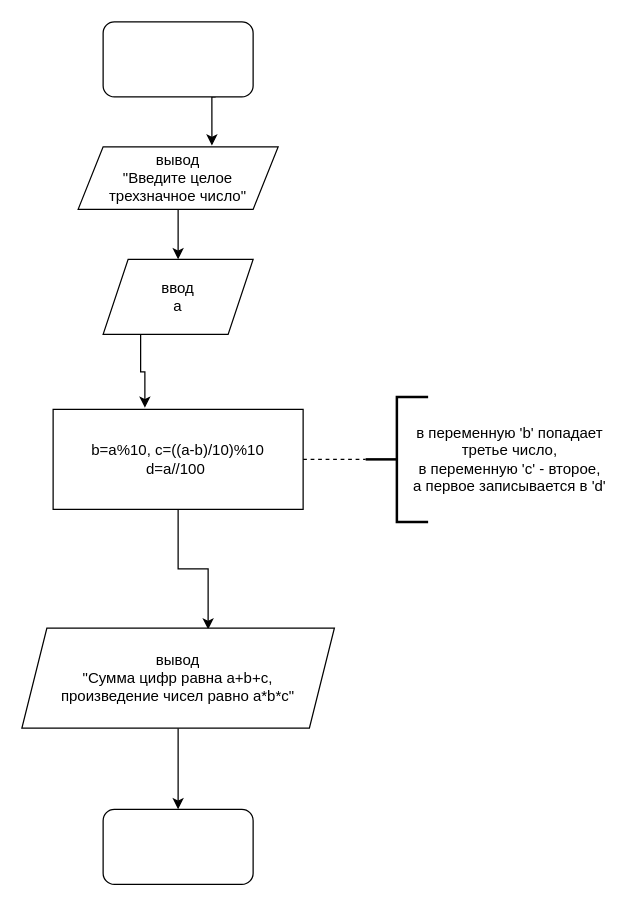
The diagram is 638 pixels wide and 906 high, and some of its shapes have lost their labels. The centre of each missing label's shape, as x and y in pixels:
"Конец" belongs at (177,846).
"Начало" belongs at (177,59).
